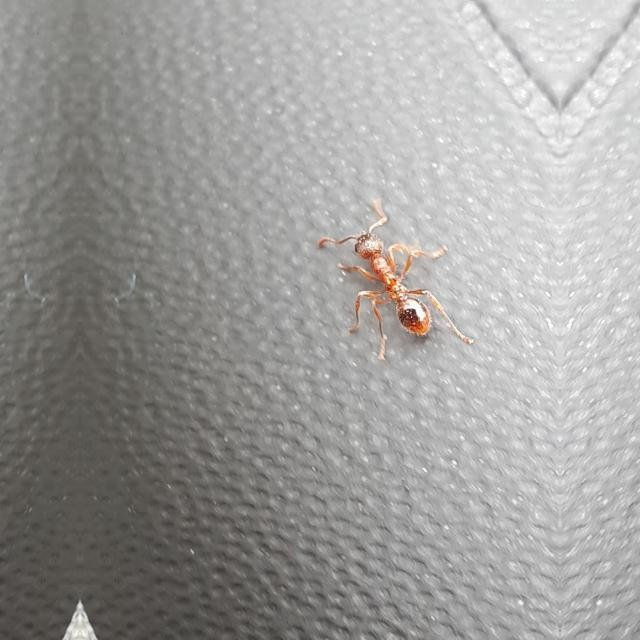Myrmica: (304, 186, 450, 346)
